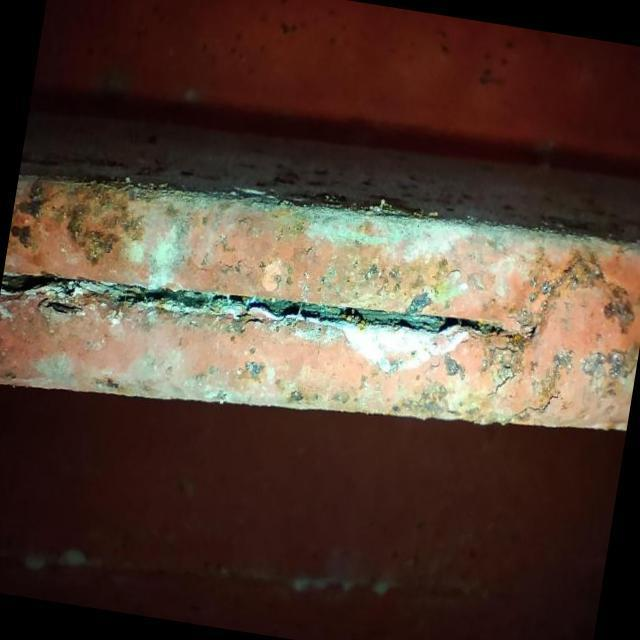defect: (0, 267, 513, 341), (509, 389, 563, 422), (483, 365, 526, 401)
